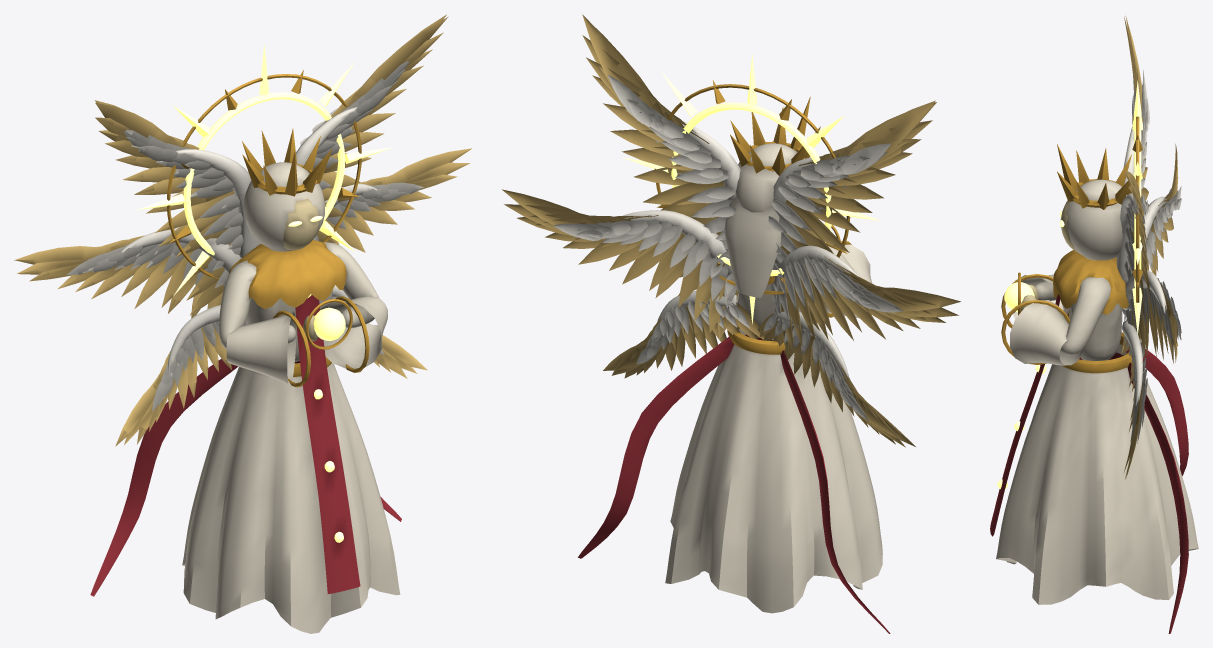
File: icon_seraph.glb
3 renders of one model, left to right at view 1: azimuth 30°, elevation 25°; view 2: azimuth 150°, elevation 25°; view 3: azimuth 270°, elevation 25°, orthographic. The views are drawn at different scales.
Visible parts, largest first — view 1: body, wing_L_a, wing_L_b, wing_R_a, spin_z_halo, wing_L_c, wing_R_b, wing_R_c; view 2: body, wing_R_b, wing_R_a, wing_L_a, wing_L_b, wing_R_c, wing_L_c, spin_z_halo; view 3: body, wing_R_b, wing_R_a, wing_L_b, wing_R_c, wing_L_a, spin_z_halo.
Boxes of the visible parts, box(x1,y1,x2,y2) form: body: box(90, 128, 401, 633); wing_L_a: box(95, 100, 260, 315); wing_L_b: box(14, 227, 240, 318); wing_R_a: box(296, 14, 448, 242); spin_z_halo: box(136, 44, 392, 295); wing_L_c: box(115, 305, 247, 446); wing_R_b: box(315, 148, 471, 252); wing_R_c: box(332, 285, 427, 378); body: box(578, 96, 890, 633); wing_R_b: box(502, 189, 738, 339); wing_R_a: box(582, 14, 740, 296); wing_L_a: box(768, 100, 936, 330); wing_L_b: box(770, 245, 960, 356); wing_R_c: box(603, 290, 765, 378); wing_L_c: box(755, 307, 915, 447); spin_z_halo: box(623, 54, 881, 324); body: box(990, 144, 1198, 633); wing_R_b: box(1123, 270, 1181, 363); wing_R_a: box(1116, 171, 1150, 349); wing_L_b: box(1144, 144, 1181, 275); wing_R_c: box(1121, 320, 1147, 479); wing_L_a: box(1123, 16, 1149, 205); spin_z_halo: box(1132, 81, 1142, 334).
Bounding box in the file's own units: 1.96 × 2.17 × 0.848.
